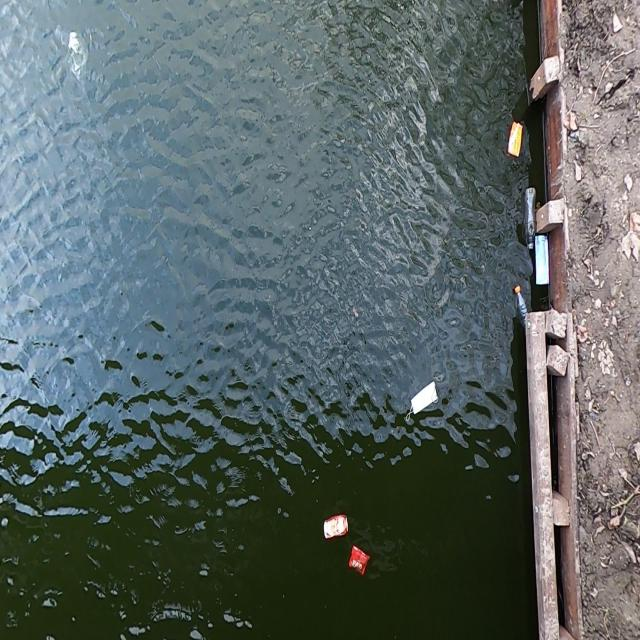Autre plastique: (346, 546, 373, 582)
Bouteille plastique: (524, 185, 538, 252)
Non plastique: (404, 383, 441, 426), (320, 515, 352, 547)
